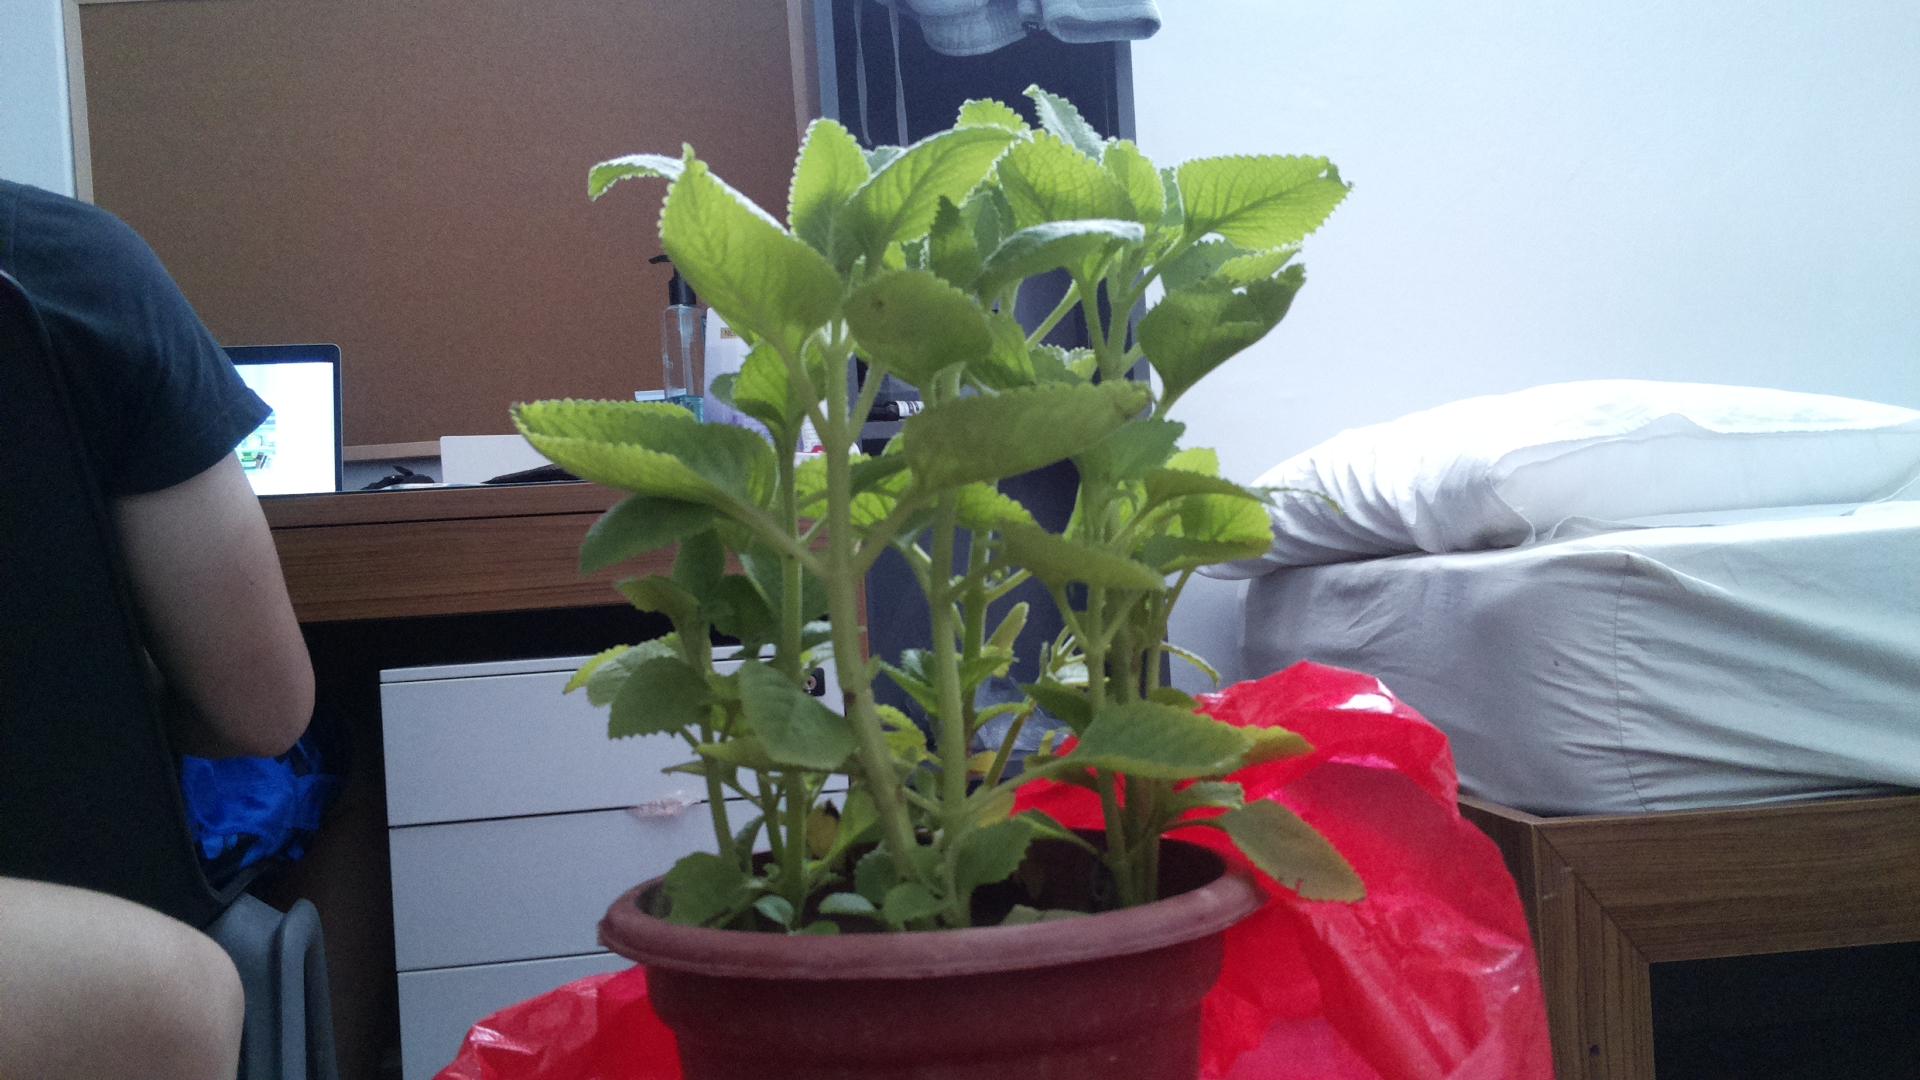leaf: (629, 131, 835, 367), (495, 389, 773, 513), (895, 369, 1145, 506), (847, 113, 1021, 282), (1139, 266, 1317, 401), (1208, 789, 1373, 909), (1171, 150, 1364, 251), (1056, 702, 1315, 773), (731, 657, 872, 783), (848, 274, 997, 389), (996, 121, 1139, 233), (982, 526, 1192, 595), (563, 498, 728, 582), (589, 650, 711, 746), (583, 142, 694, 206), (961, 814, 1033, 891)
